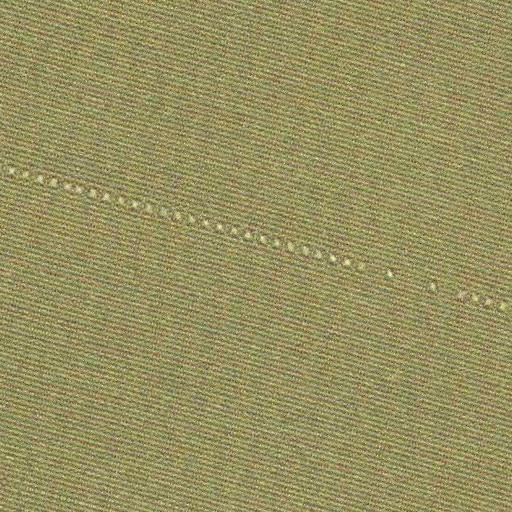slub: (2, 157, 512, 326)
